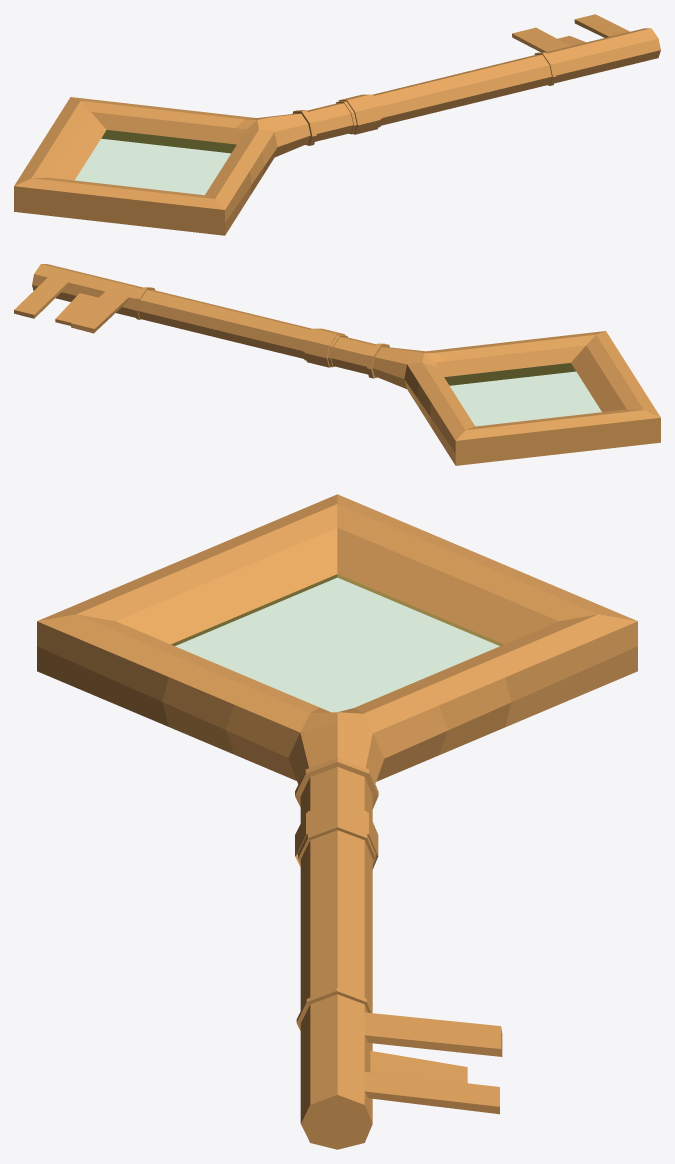
File: Chave1.fbx
3 renders of one model, top to bottom at view 1: azimuth 30°, elevation 25°; view 2: azimuth 150°, elevation 25°; view 3: azimuth 270°, elevation 25°, orthographic. The views are drawn at different scales.
Parts seen in each view (by area): view 1: Chave 1; view 2: Chave 1; view 3: Chave 1.
Boxes of the visible parts, left/top/right/bottom form: Chave 1: left=14, top=14, right=660, bottom=235; Chave 1: left=14, top=264, right=660, bottom=465; Chave 1: left=37, top=494, right=637, bottom=1149.
Size of the model in its own units: 7.56 by 0.4205 by 3.17.
